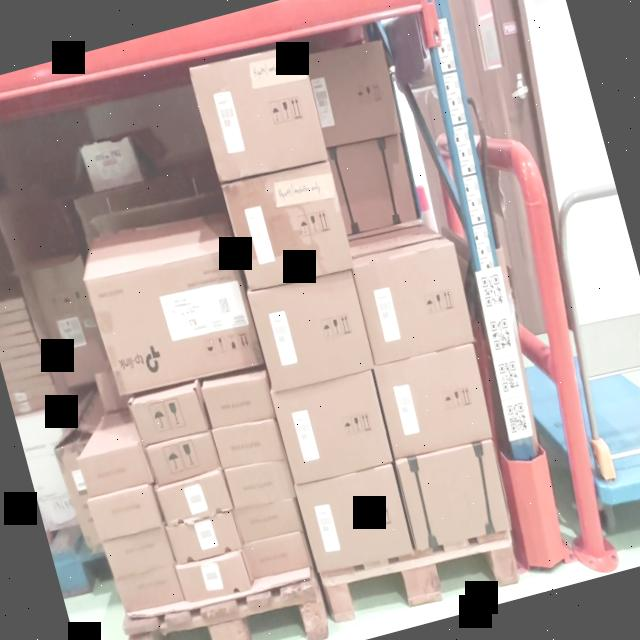box: (85, 240, 265, 400), (192, 43, 329, 186), (224, 162, 353, 292), (248, 269, 374, 396), (353, 247, 476, 364), (375, 344, 495, 462), (273, 374, 394, 486), (298, 466, 412, 575), (399, 446, 512, 552), (305, 40, 402, 150), (31, 262, 107, 382), (202, 372, 274, 434), (76, 440, 152, 498), (130, 389, 207, 445), (175, 549, 249, 601), (167, 512, 239, 564), (232, 491, 302, 544), (146, 434, 216, 486), (214, 418, 282, 470), (244, 533, 312, 585), (158, 473, 228, 523), (90, 487, 160, 536), (224, 454, 292, 504), (114, 564, 182, 614), (104, 529, 172, 577)
